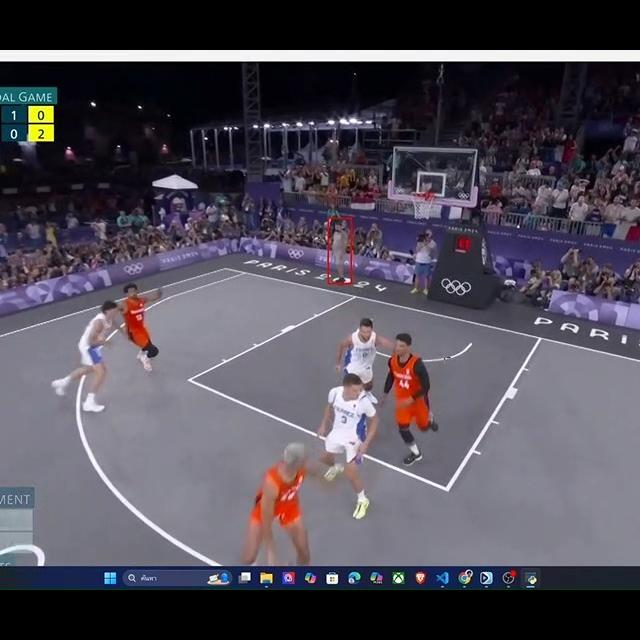hoop: (409, 189, 437, 221)
